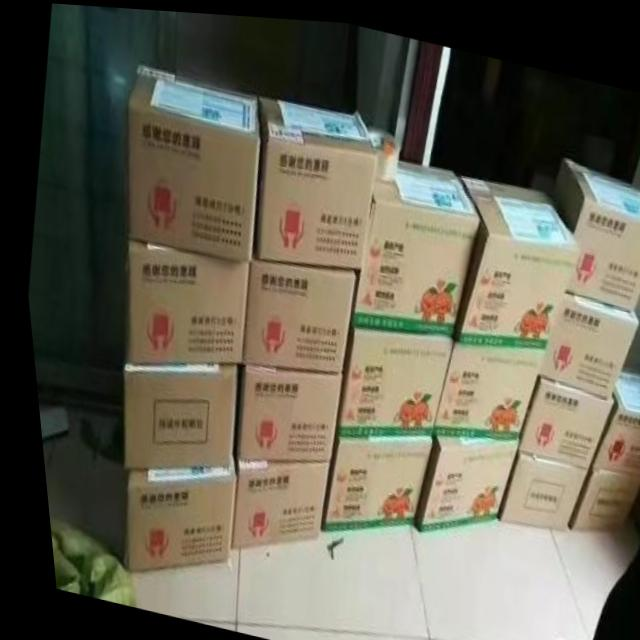box: (124, 69, 256, 257), (344, 155, 475, 332), (448, 170, 578, 345), (248, 89, 375, 265), (122, 240, 245, 365), (545, 148, 640, 303), (324, 324, 447, 432), (113, 361, 232, 470), (115, 454, 225, 570), (236, 259, 351, 367), (423, 334, 539, 434), (311, 430, 425, 529), (532, 287, 633, 391), (404, 428, 509, 528), (229, 363, 335, 461), (219, 454, 320, 547), (510, 370, 604, 464), (488, 442, 579, 523), (581, 363, 640, 467), (557, 462, 636, 522)
